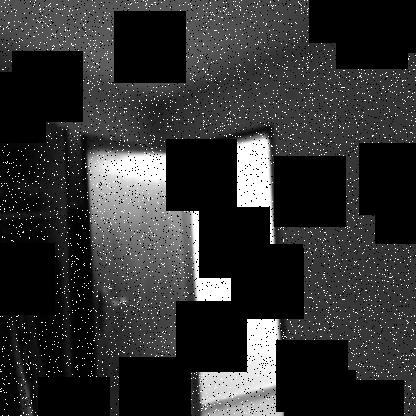Porte: (75, 121, 296, 415)
